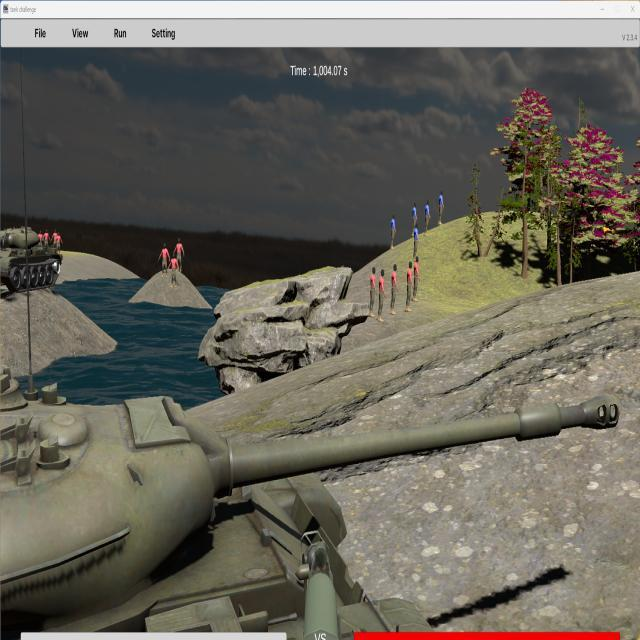Human: (167, 252, 180, 289), (390, 263, 399, 315), (378, 267, 386, 322), (158, 242, 170, 278), (406, 259, 414, 312), (368, 266, 376, 318), (413, 256, 421, 302)
Tank: (1, 389, 496, 635), (0, 225, 63, 295)
